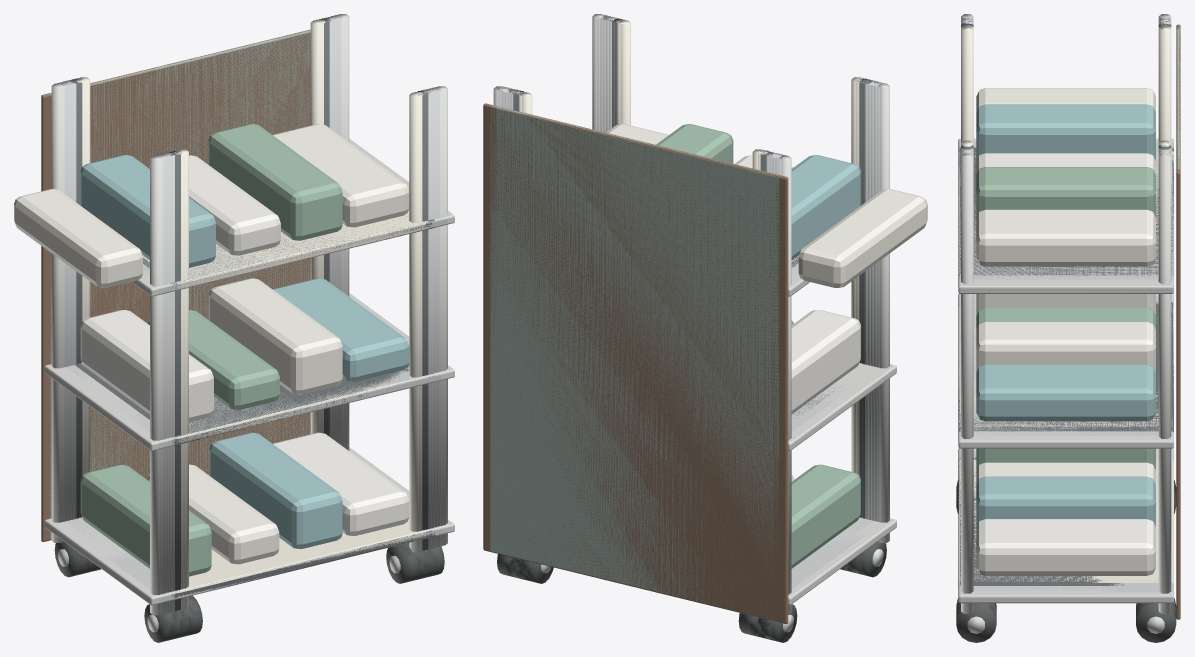
Rendered from Gear14.fbx.
3 renders of one model, left to right at view 1: azimuth 30°, elevation 25°; view 2: azimuth 150°, elevation 25°; view 3: azimuth 270°, elevation 25°, orthographic.
Parts seen in each view (by area): view 1: Gear14_V10_Leather, Gear14_V10_Chrome, Gear14_V1_Ivory, Gear14_V6_Fabric, Gear14_V10_Linen, Gear14_V3_Charcoal, Gear14_V10_Paper, Gear14_V10_Blue, Gear14_V2_Ivory, Gear14_V10_Sage, Gear14_V6_BrushedSteel, Gear14_V8_BrushedSteel (+41 smaller); view 2: Gear14_V6_Fabric, Gear14_V10_Leather, Gear14_V8_Fabric, Gear14_V7_Fabric, Gear14_V9_Leather, Gear14_V10_Chrome, Gear14_V10_Linen, Gear14_V10_Sage, Gear14_V10_Paper, Gear14_V10_Blue, Gear14_V8_BrushedSteel, Gear14_V9_Chrome (+12 smaller); view 3: Gear14_V10_Chrome, Gear14_V10_Linen, Gear14_V10_Blue, Gear14_V10_Paper, Gear14_V10_Sage, Gear14_V7_Blue, Gear14_V1_Ivory, Gear14_V4_Charcoal, Gear14_V7_BrushedSteel, Gear14_V6_BrushedSteel, Gear14_V9_Sage, Gear14_V8_Blue (+36 smaller).
Boxes of the visible parts, box(x1,y1,x2,y2) form: Gear14_V10_Leather: box(41, 29, 310, 541); Gear14_V10_Chrome: box(44, 14, 454, 632); Gear14_V1_Ivory: box(78, 20, 425, 608); Gear14_V6_Fabric: box(90, 30, 310, 476); Gear14_V10_Linen: box(14, 124, 409, 564); Gear14_V3_Charcoal: box(73, 19, 432, 610); Gear14_V10_Paper: box(80, 166, 409, 528); Gear14_V10_Blue: box(80, 156, 409, 542); Gear14_V2_Ivory: box(75, 19, 428, 609); Gear14_V10_Sage: box(80, 124, 342, 574); Gear14_V6_BrushedSteel: box(64, 17, 441, 612); Gear14_V8_BrushedSteel: box(57, 15, 447, 613); Gear14_V6_Fabric: box(496, 107, 772, 617); Gear14_V10_Leather: box(483, 103, 788, 623); Gear14_V8_Fabric: box(490, 105, 779, 622); Gear14_V7_Fabric: box(493, 106, 775, 621); Gear14_V9_Leather: box(487, 105, 782, 623); Gear14_V10_Chrome: box(493, 14, 896, 632); Gear14_V10_Linen: box(606, 124, 927, 481); Gear14_V10_Sage: box(656, 124, 860, 568); Gear14_V10_Paper: box(742, 158, 860, 414); Gear14_V10_Blue: box(791, 156, 860, 259); Gear14_V8_BrushedSteel: box(501, 15, 883, 589); Gear14_V9_Chrome: box(497, 14, 891, 579); Gear14_V10_Chrome: box(958, 14, 1173, 633); Gear14_V10_Linen: box(976, 88, 1155, 481); Gear14_V10_Blue: box(976, 104, 1155, 526); Gear14_V10_Paper: box(976, 153, 1155, 575); Gear14_V10_Sage: box(976, 169, 1155, 327); Gear14_V7_Blue: box(976, 109, 1155, 390); Gear14_V1_Ivory: box(958, 26, 1173, 582); Gear14_V4_Charcoal: box(958, 23, 1173, 587); Gear14_V7_BrushedSteel: box(958, 18, 1173, 590); Gear14_V6_BrushedSteel: box(958, 20, 1173, 471); Gear14_V9_Sage: box(976, 169, 1155, 470); Gear14_V8_Blue: box(976, 106, 1155, 500).
Bounding box in the file's own units: 89.3 × 120 × 50.
